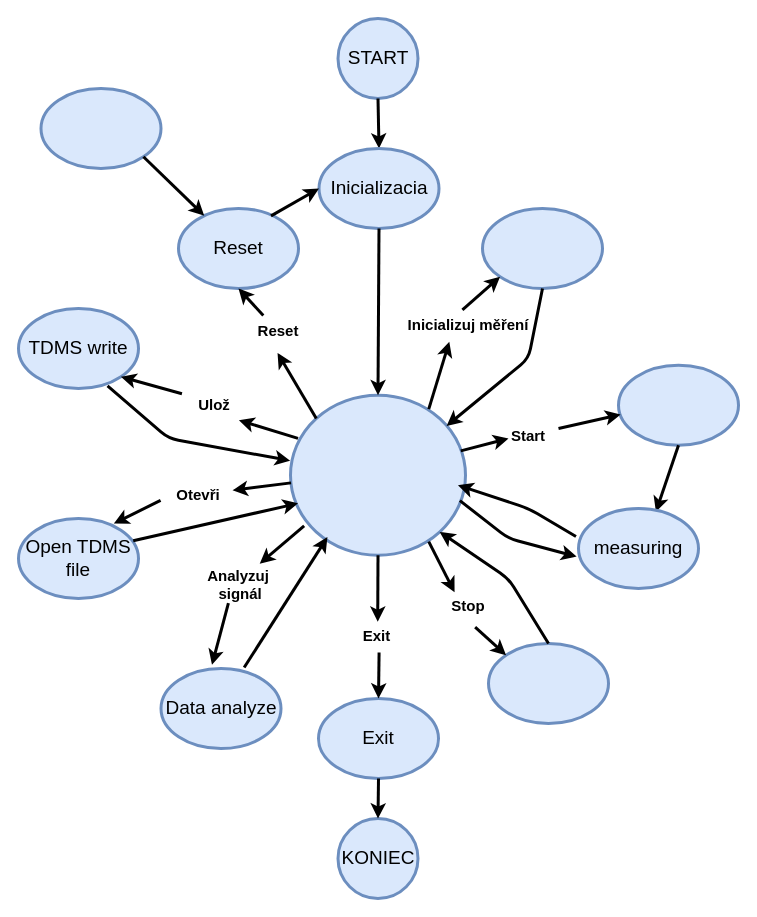
The diagram is 757 pixels wide and 917 high, and some of its shapes have lost their labels. Here are the shapes that lost their labels. From the top down, the centre of each, then its label:
[100,128]: EROR
[542,248]: Measurment init
[678,404]: START measure
[377,474]: Wait for event
[548,683]: STOP measure
